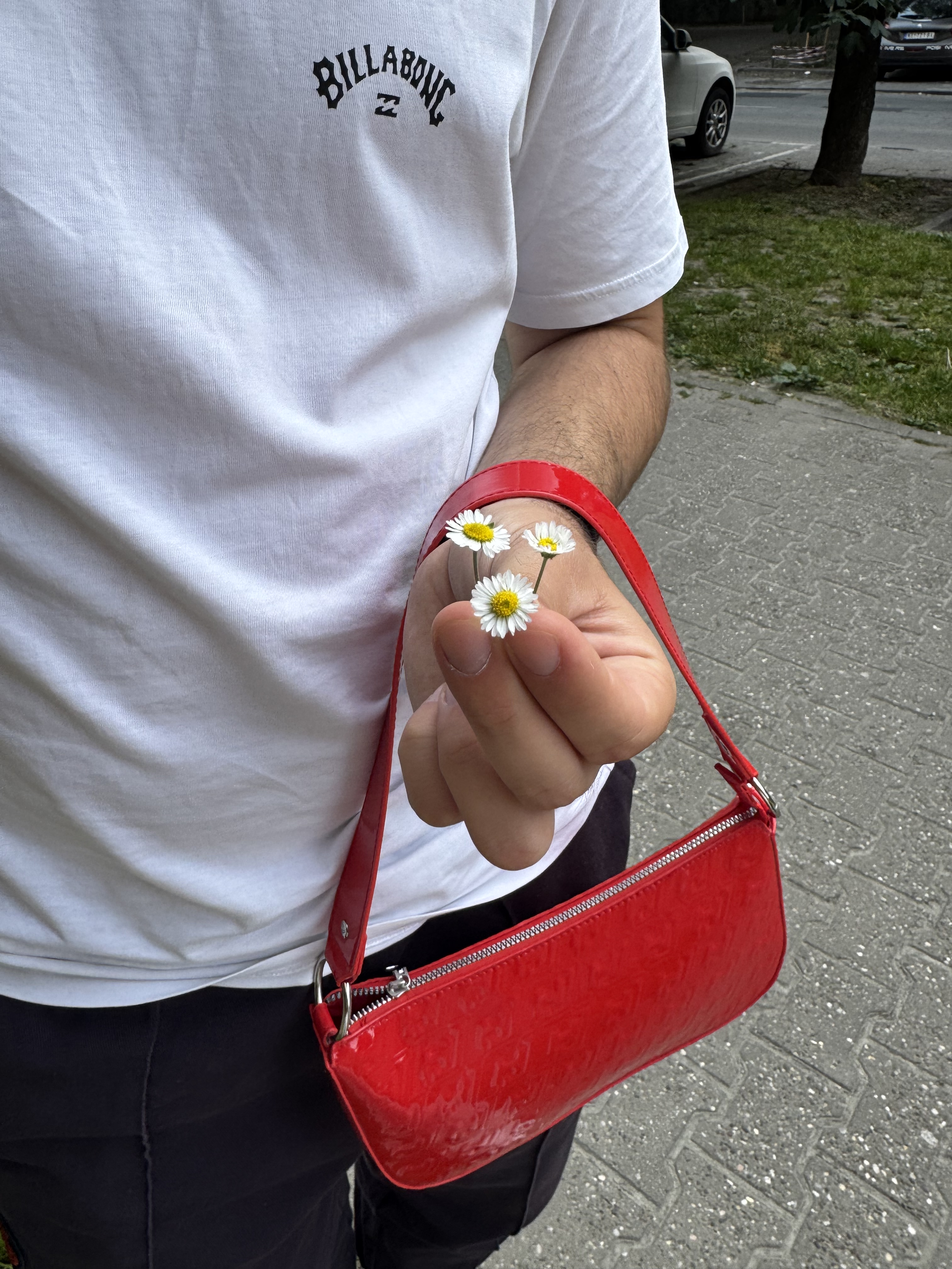daisy: (473, 571, 538, 646), (516, 509, 583, 569), (439, 509, 512, 563)
